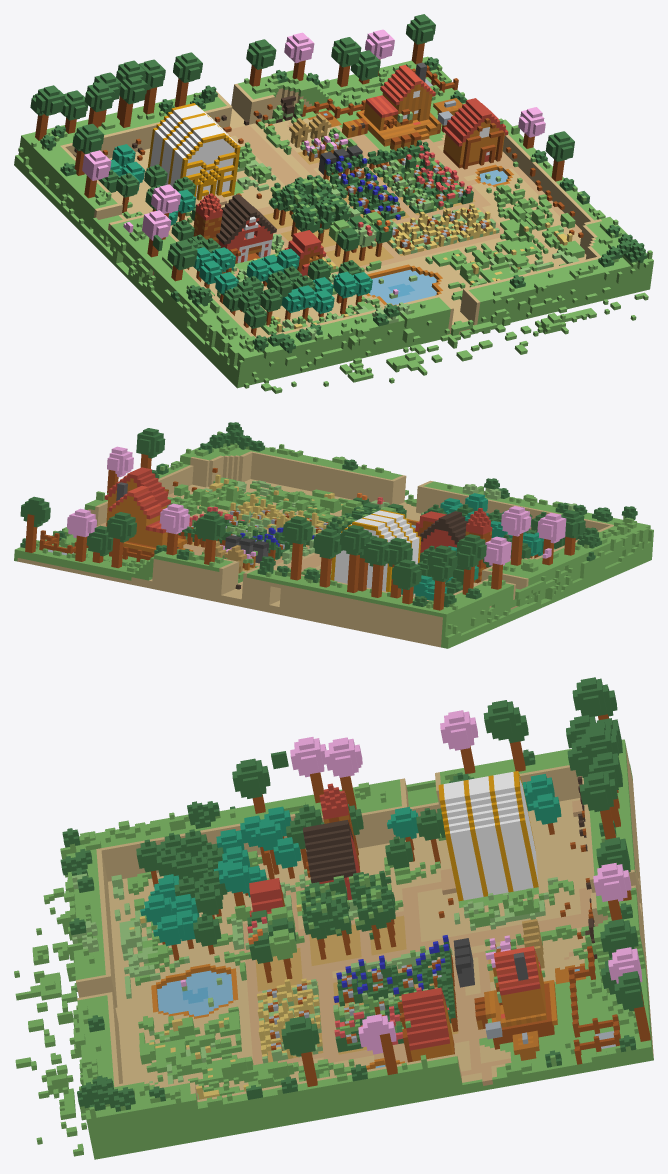
The model's file is star.gltf.
3 views of the same model, one above another, from view 1: azimuth 30°, elevation 25°; view 2: azimuth 150°, elevation 25°; view 3: azimuth 270°, elevation 25° (orthographic). The views are drawn at different scales.
Visible parts, largest first — view 1: Mesh_0; view 2: Mesh_0; view 3: Mesh_0.
Part boxes in pixels (x1=…): Mesh_0: x1=14, y1=14, x2=653, y2=393; Mesh_0: x1=14, y1=422, x2=653, y2=648; Mesh_0: x1=14, y1=677, x2=653, y2=1159.
Bounding box in the file's own units: 129 × 49.18 × 126.
1 material, 1 textured.
